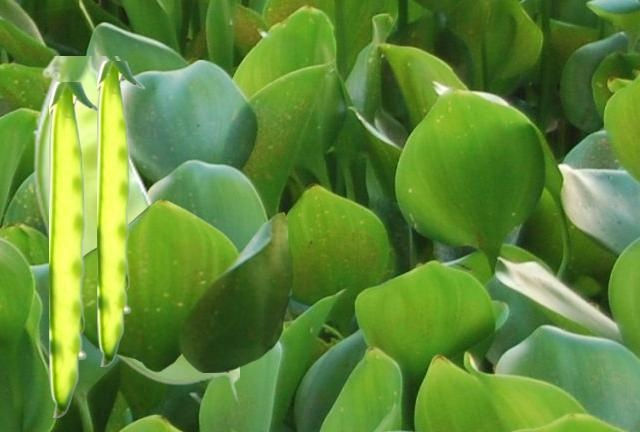pea: (32, 56, 238, 403), (49, 82, 96, 416), (97, 61, 144, 365)
